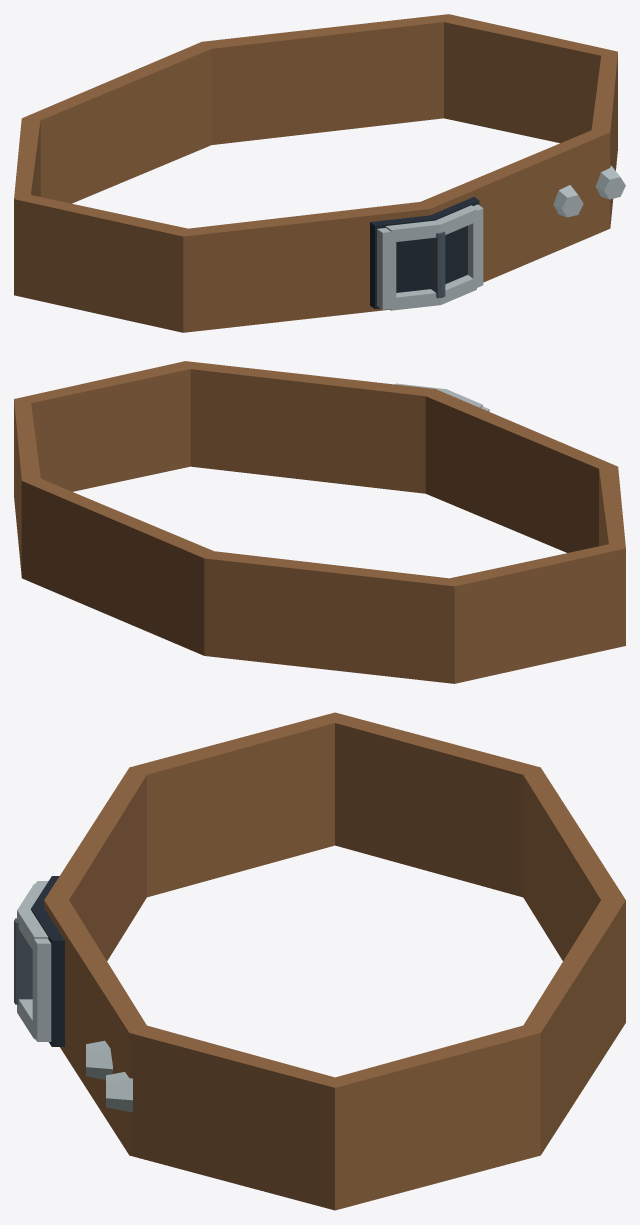
Rendered from studded_waist-male.glb.
3 views of the same model, one above another, from view 1: azimuth 30°, elevation 25°; view 2: azimuth 150°, elevation 25°; view 3: azimuth 270°, elevation 25° (orthographic). The views are drawn at different scales.
Visible parts, largest first — view 1: studded waist band, Buckle recessed backplate, Buckle side rail -0.145, Buckle cross rail 4.506, Buckle cross rail 4.294, Buckle side rail 0.145, Buckle pin, Set rivet studded waist band 1, Set rivet studded waist band -1; view 2: studded waist band; view 3: studded waist band, Buckle recessed backplate, Buckle side rail 0.145, Buckle pin, Buckle cross rail 4.506, Set rivet studded waist band 1, Set rivet studded waist band -1.
Boxes of the visible parts, box(x1,y1,x2,y2) form: studded waist band: box(14, 14, 617, 332); Buckle recessed backplate: box(370, 197, 479, 309); Buckle side rail -0.145: box(377, 228, 396, 309); Buckle cross rail 4.506: box(385, 205, 476, 242); Buckle cross rail 4.294: box(389, 275, 476, 310); Buckle side rail 0.145: box(468, 204, 483, 289); Buckle pin: box(431, 231, 445, 298); Set rivet studded waist band 1: box(595, 166, 625, 199); Set rivet studded waist band -1: box(553, 185, 583, 217); studded waist band: box(14, 361, 625, 683); studded waist band: box(44, 712, 625, 1210); Buckle recessed backplate: box(31, 876, 64, 1046); Buckle side rail 0.145: box(32, 937, 51, 1041); Buckle pin: box(14, 918, 32, 1004); Buckle cross rail 4.506: box(17, 883, 48, 949); Set rivet studded waist band 1: box(106, 1072, 132, 1112); Set rivet studded waist band -1: box(86, 1040, 112, 1079).
Size of the model in its own units: 1.97 by 0.3 by 1.36.
